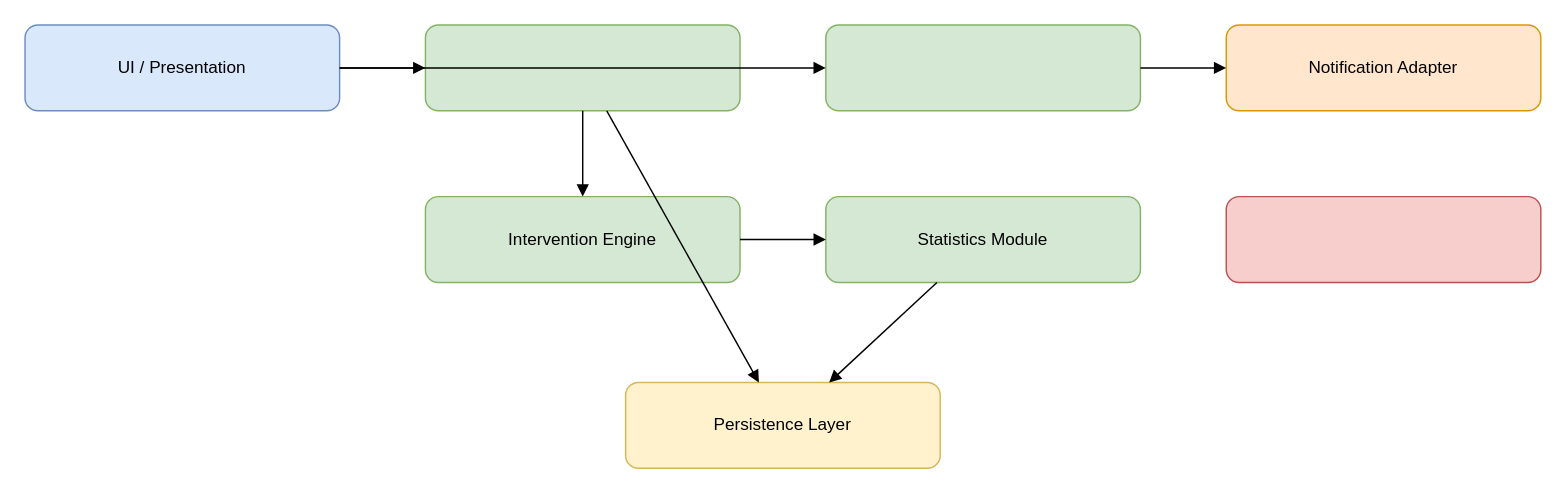
This 1566x493 diagram has some shape labels left out. Each missing label, with the centre of its shape:
Platform Services (spaeter erweitert): [1383,238]
Rule Management: [582,67]
Timer / Scheduler: [982,67]
